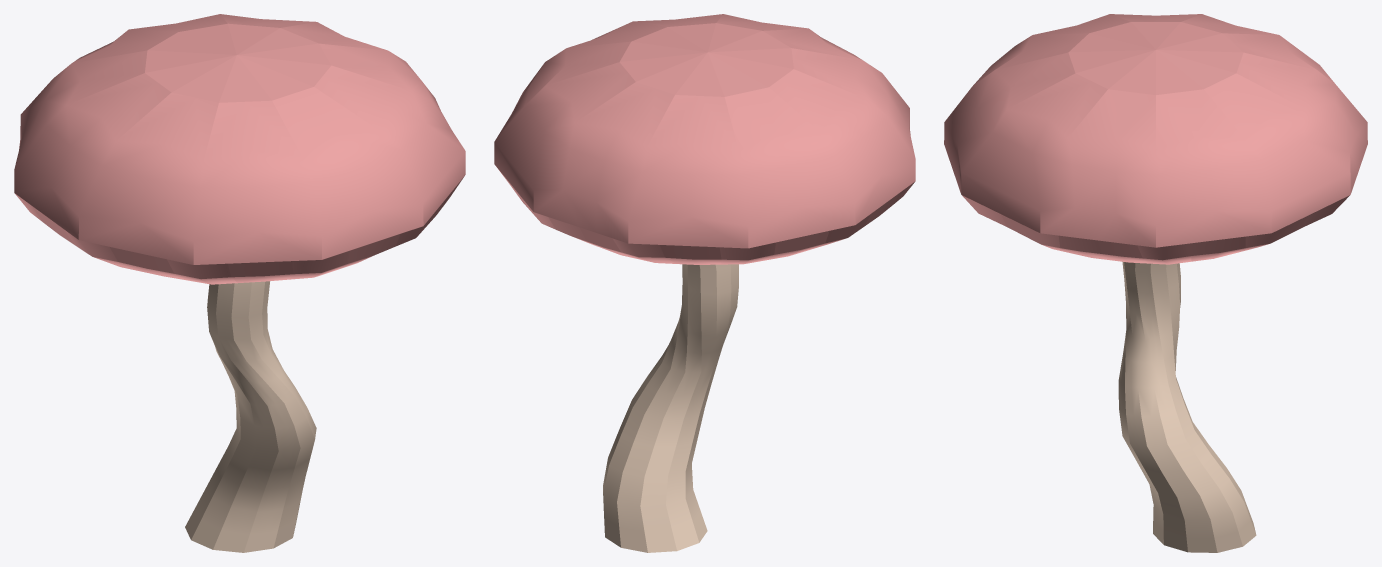
File: Normal_Mushroom_L.fbx
The picture shows the model from 3 angles, left to right: view 1: azimuth 30°, elevation 25°; view 2: azimuth 150°, elevation 25°; view 3: azimuth 270°, elevation 25°; orthographic projection. The views are drawn at different scales.
Parts seen in each view (by area): view 1: pasted__NormalMushroom_B; view 2: pasted__NormalMushroom_B; view 3: pasted__NormalMushroom_B.
Boxes of the visible parts, left/top/right/bottom form: pasted__NormalMushroom_B: left=14, top=14, right=465, bottom=552; pasted__NormalMushroom_B: left=494, top=14, right=915, bottom=552; pasted__NormalMushroom_B: left=944, top=14, right=1367, bottom=552.
Bounding box in the file's own units: 4.28 × 5.26 × 4.32.
